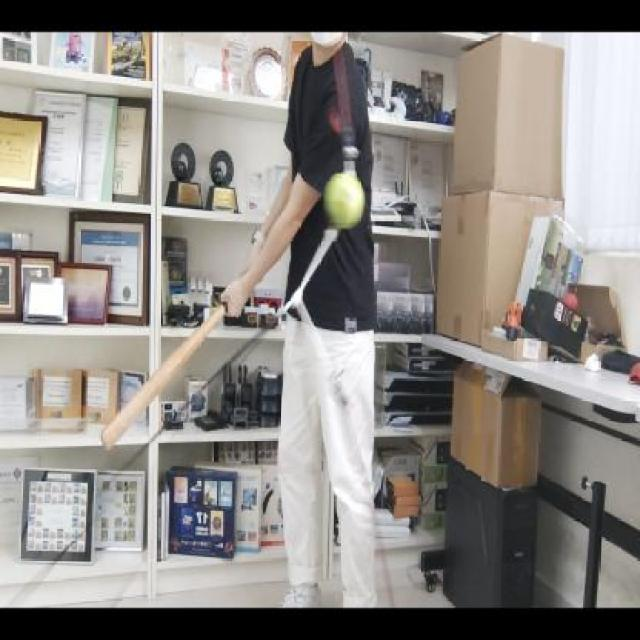baseball: (328, 169, 367, 231)
